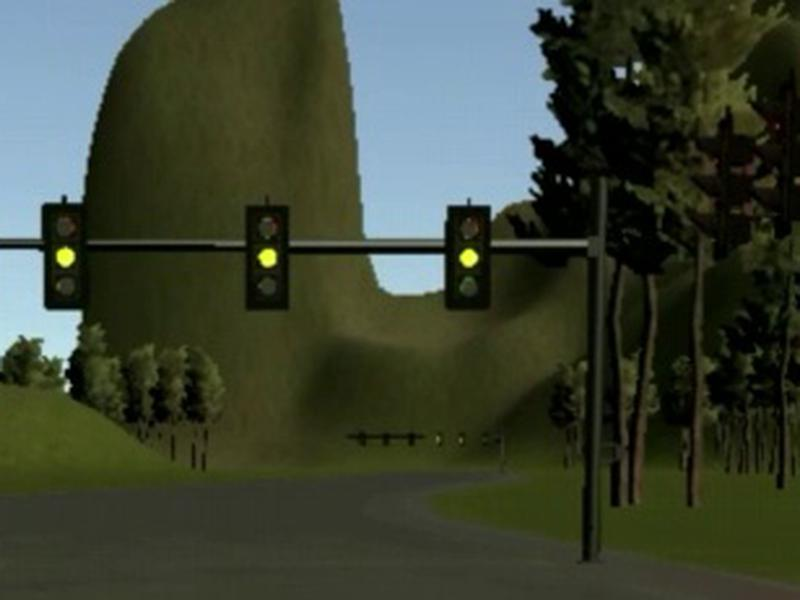Yellow: (444, 204, 491, 310), (245, 205, 291, 310), (44, 203, 84, 309)
